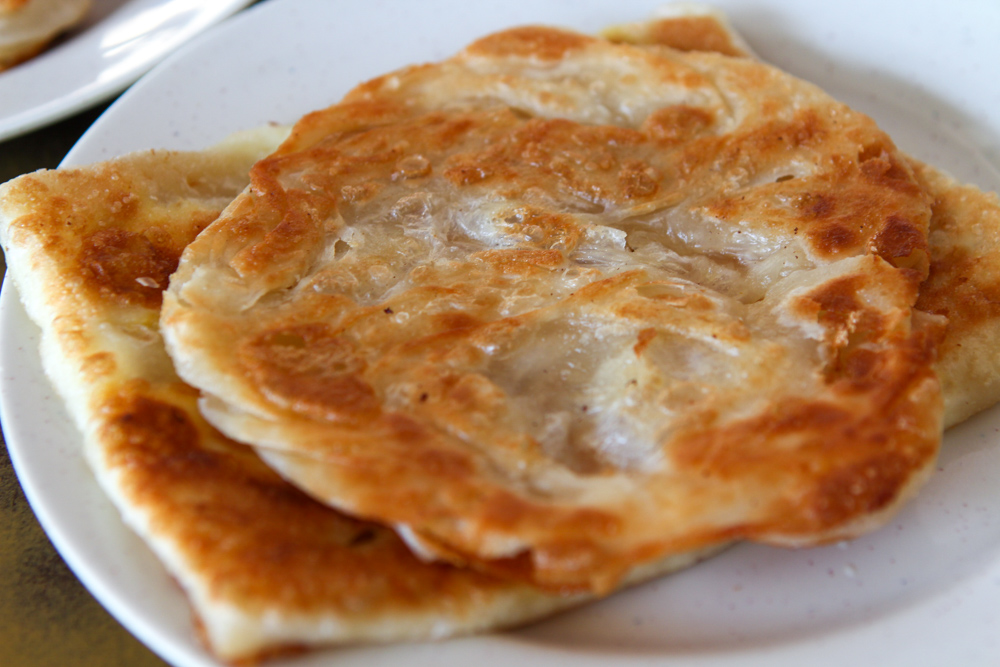Prata: (33, 100, 997, 634), (231, 18, 945, 546)
